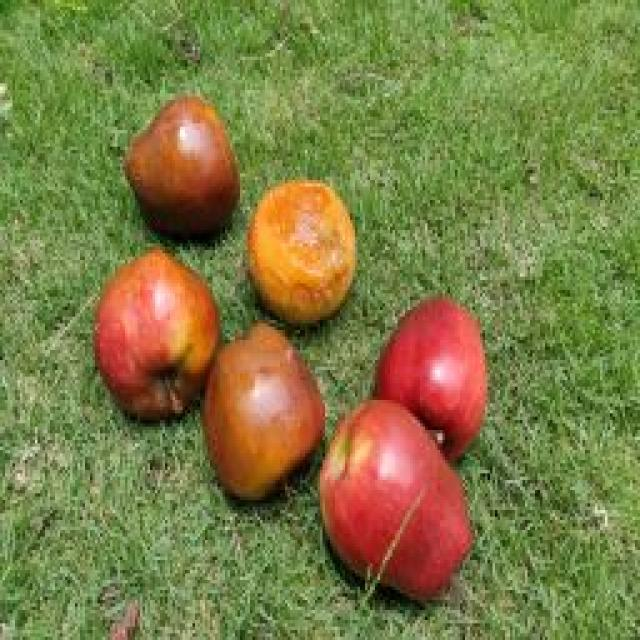Organik: (317, 384, 493, 604), (73, 255, 225, 434), (358, 278, 503, 452), (188, 320, 320, 503), (235, 172, 372, 336), (122, 90, 240, 236)
